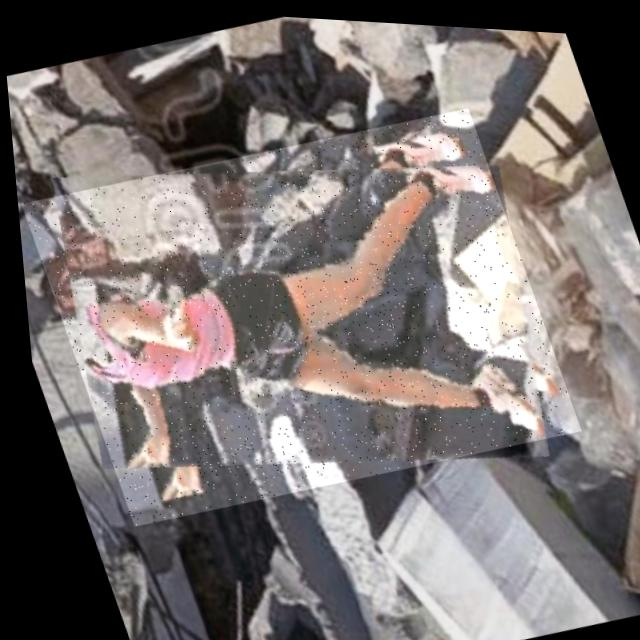Person in Rubble: (8, 80, 582, 545)
